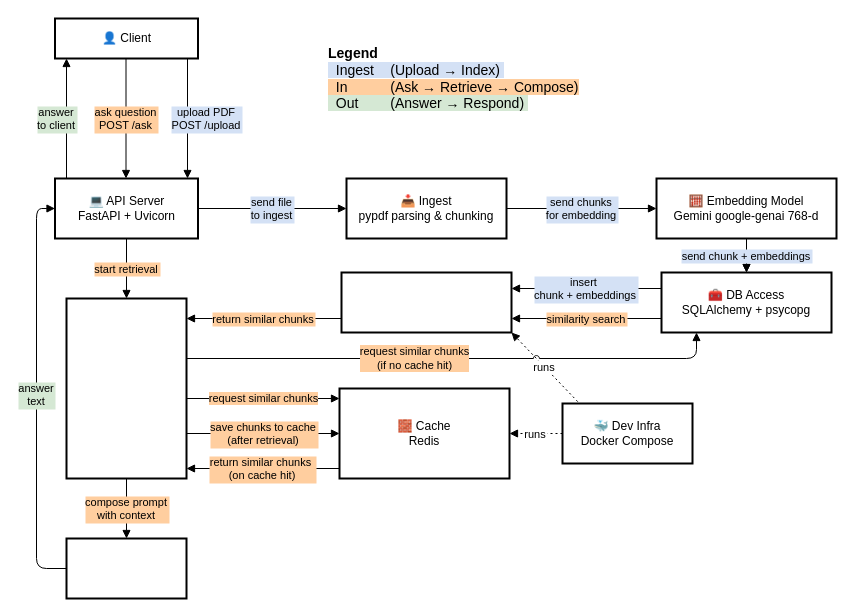
This 854x616 diagram has some shape labels left out. Here are the shapes that lost their labels. From the top down, the centre of each, then its label:
At [426,302]: "🗄️ Chunk + Embedding Store Postgres + pgvector".
At [126,388]: "🧭 Orchestrator LangGraph".
At [126,568]: "🧠 LLM Gemini 1.5 Flash".
